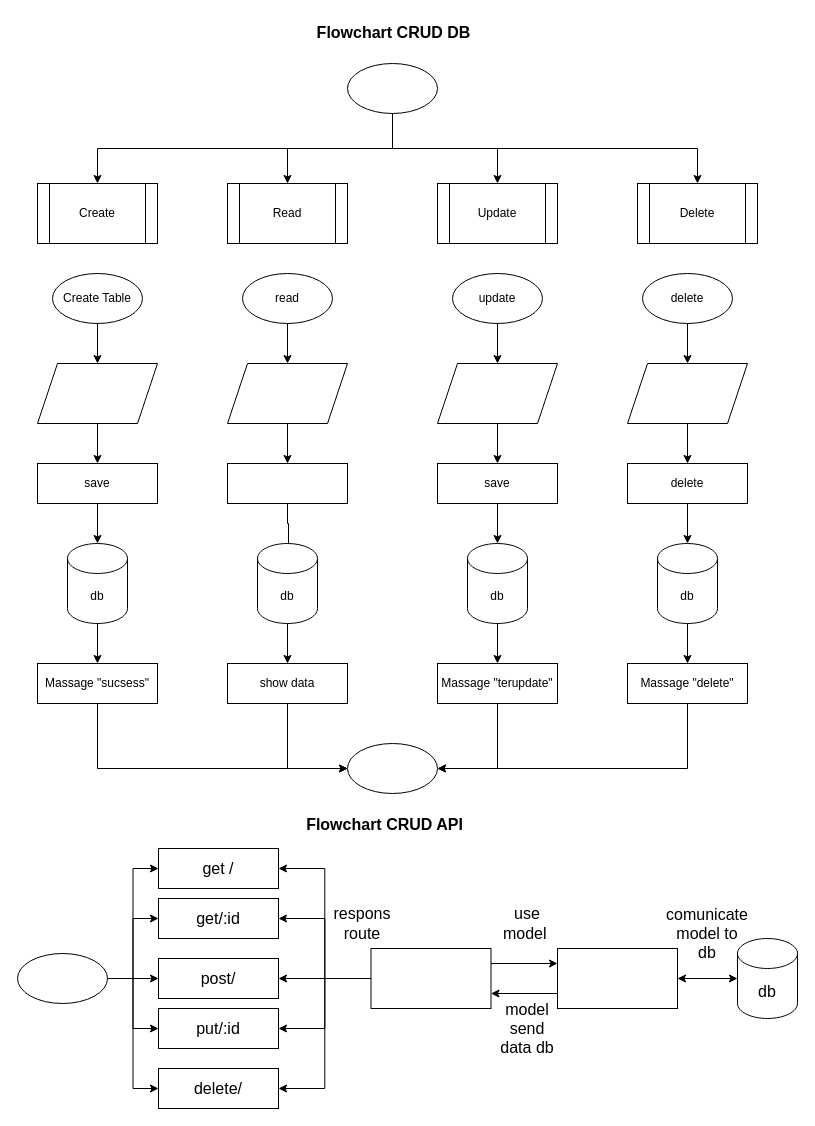
The diagram is 815 pixels wide and 1126 high, and some of its shapes have lost their labels. Here are the shapes that lost their labels. From the top down, the centre of each, then its label:
(x=392, y=88): Start
(x=97, y=393): users, category, recipes
(x=287, y=393): input perubahan by id users, category, recipes
(x=497, y=393): update by id users, category, recipes
(x=687, y=393): Delete by id users, category, recipes
(x=287, y=483): keyword
(x=392, y=768): end
(x=62, y=978): Router
(x=430, y=978): controller
(x=617, y=978): Model
